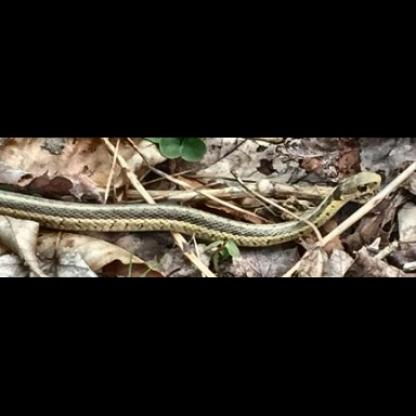Snake: (3, 159, 387, 249)
